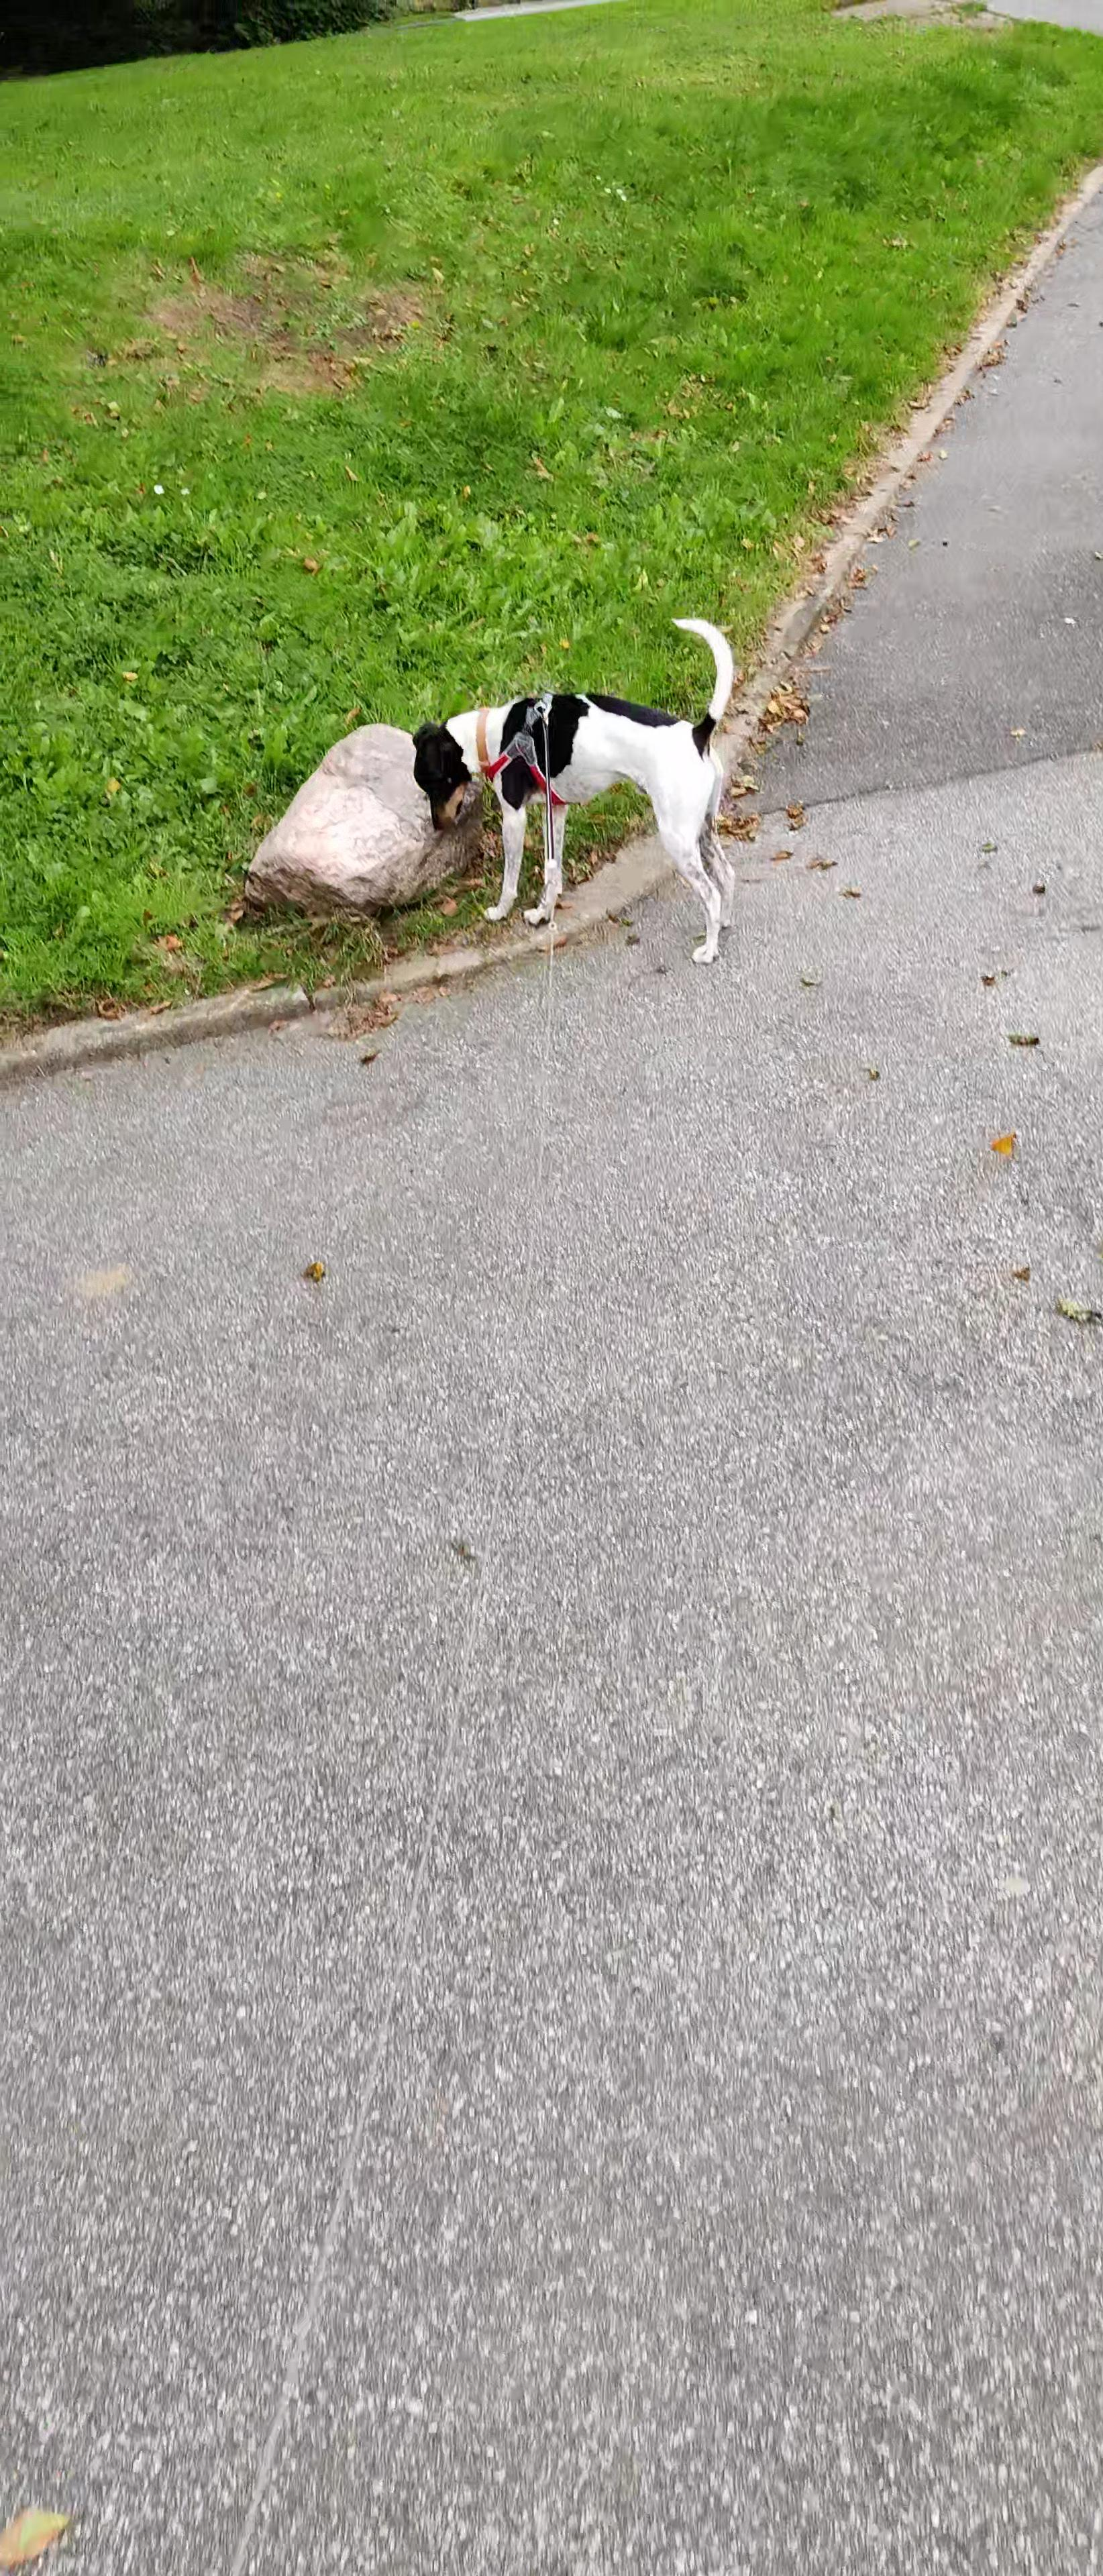Dog: (411, 611, 743, 968)
